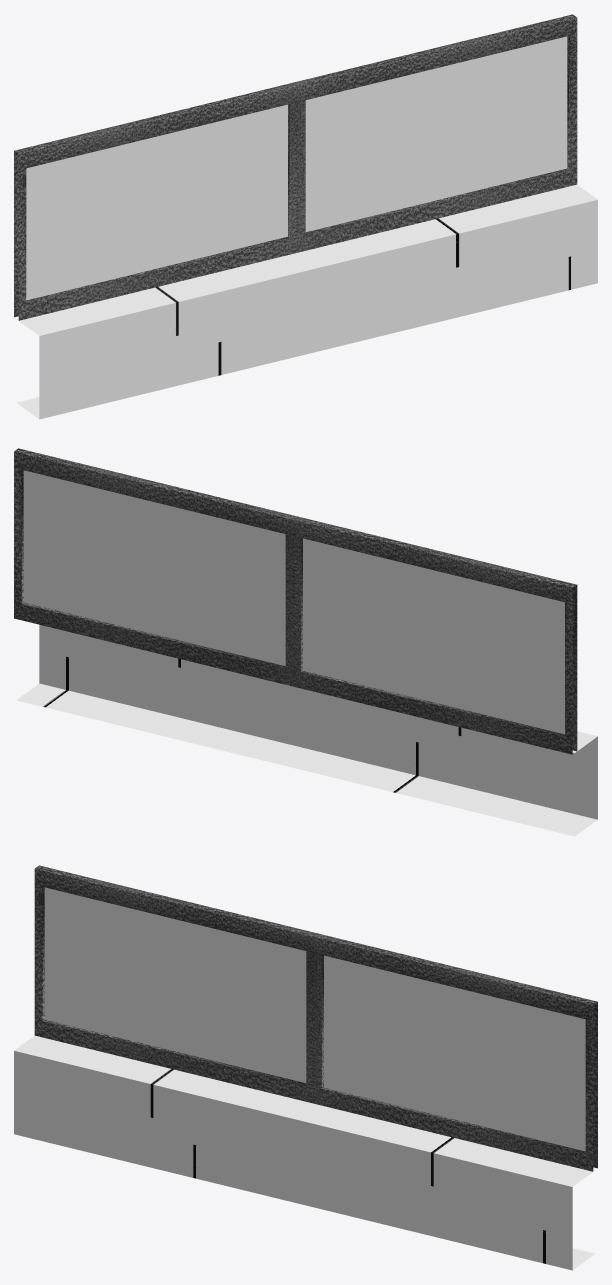
File: Parapet02_350cm.FBX
3 renders of one model, top to bottom at view 1: azimuth 30°, elevation 25°; view 2: azimuth 150°, elevation 25°; view 3: azimuth 330°, elevation 25°, orthographic.
Visible parts, largest first — view 1: Parapet02_350cm; view 2: Parapet02_350cm; view 3: Parapet02_350cm.
Part boxes in pixels (left/top/right/bottom): Parapet02_350cm: left=14, top=14, right=597, bottom=419; Parapet02_350cm: left=14, top=448, right=597, bottom=836; Parapet02_350cm: left=14, top=865, right=597, bottom=1270.
Bounding box in the file's own units: 350 × 150 × 27.5.
